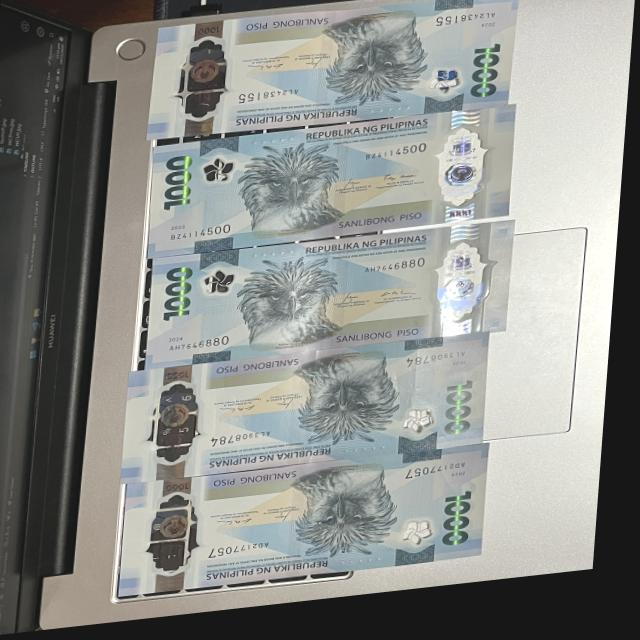clear_window: (421, 230, 511, 354), (424, 120, 503, 239), (168, 24, 240, 146)
eagle: (224, 139, 366, 248), (309, 13, 437, 125)
sampaguita: (196, 157, 245, 199), (196, 269, 246, 310), (401, 413, 449, 451), (402, 524, 447, 563)
